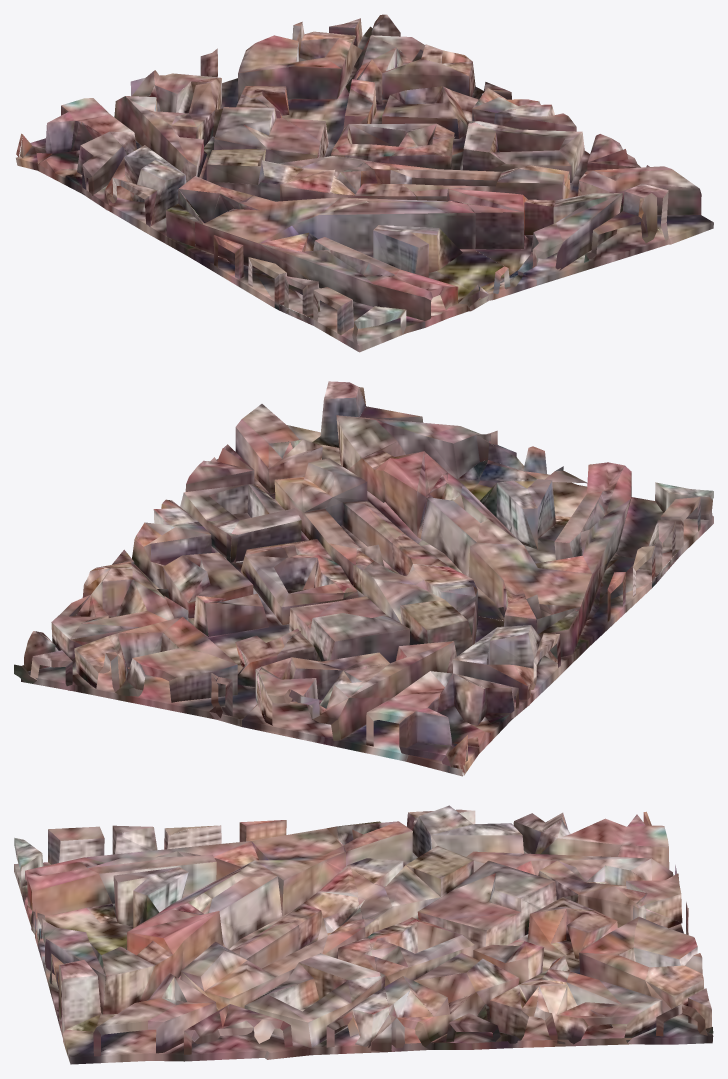
The picture shows the model from 3 angles, top to bottom: view 1: azimuth 30°, elevation 25°; view 2: azimuth 150°, elevation 25°; view 3: azimuth 270°, elevation 25°; orthographic projection. The views are drawn at different scales.
Parts seen in each view (by area): view 1: Mesh_0; view 2: Mesh_0; view 3: Mesh_0.
Boxes of the visible parts, box(x1,y1,x2,y2) form: Mesh_0: box(16, 14, 713, 352); Mesh_0: box(14, 381, 713, 776); Mesh_0: box(14, 805, 713, 1064).
Bounding box in the file's own units: 267 × 44.72 × 330.
2 materials, 2 textured.
